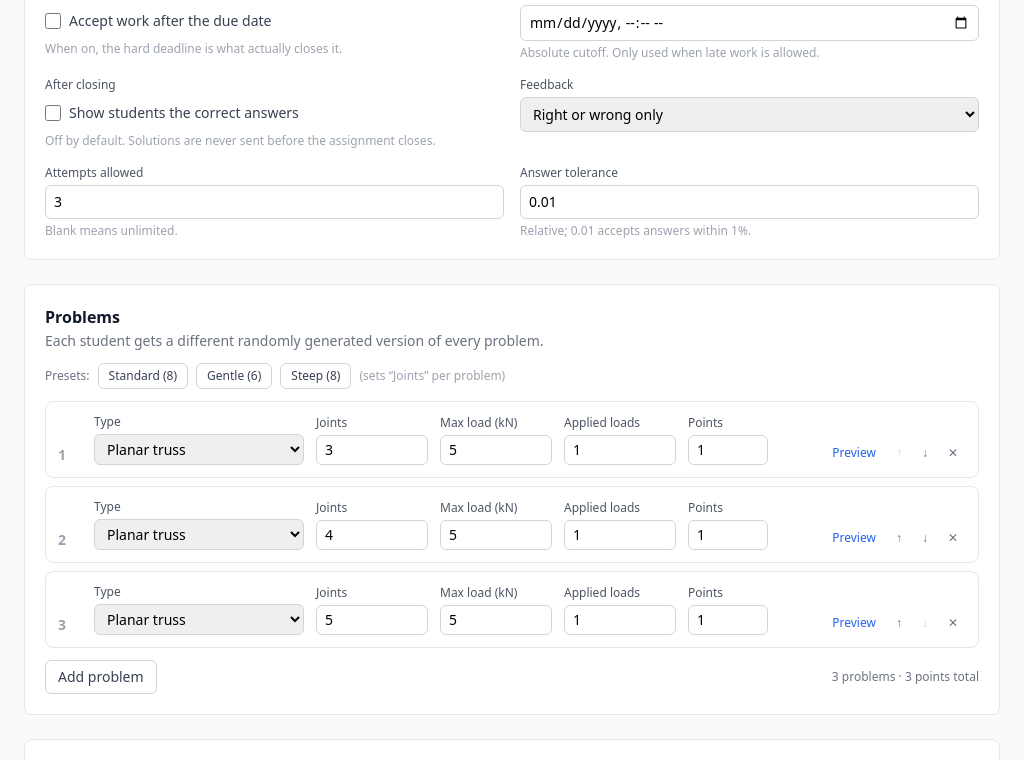
Scenario: assignment builder › applies a difficulty ramp preset
(page scrolled)
Expected: the text "3 problems · 3 points total" is shown, [832, 669, 979, 685]
Click the button "Standard (8)": (143, 376) [98, 363, 188, 389]
(page scrolled)
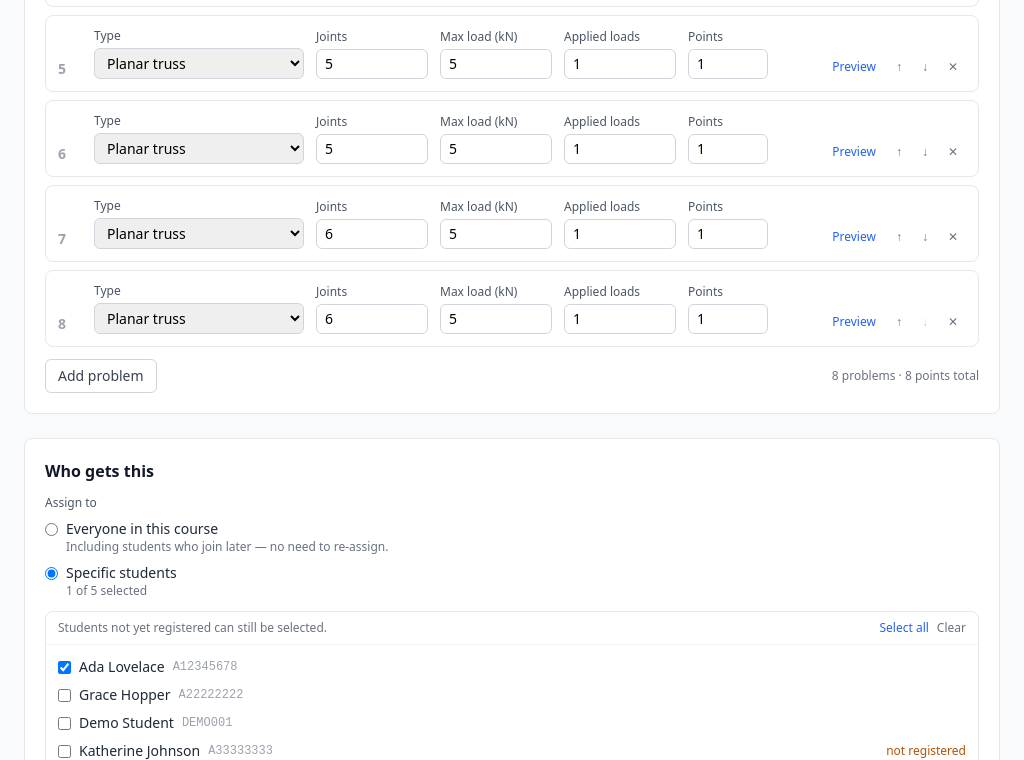
Expected: the text "8 problems · 8 points total" is shown, [832, 368, 979, 384]
